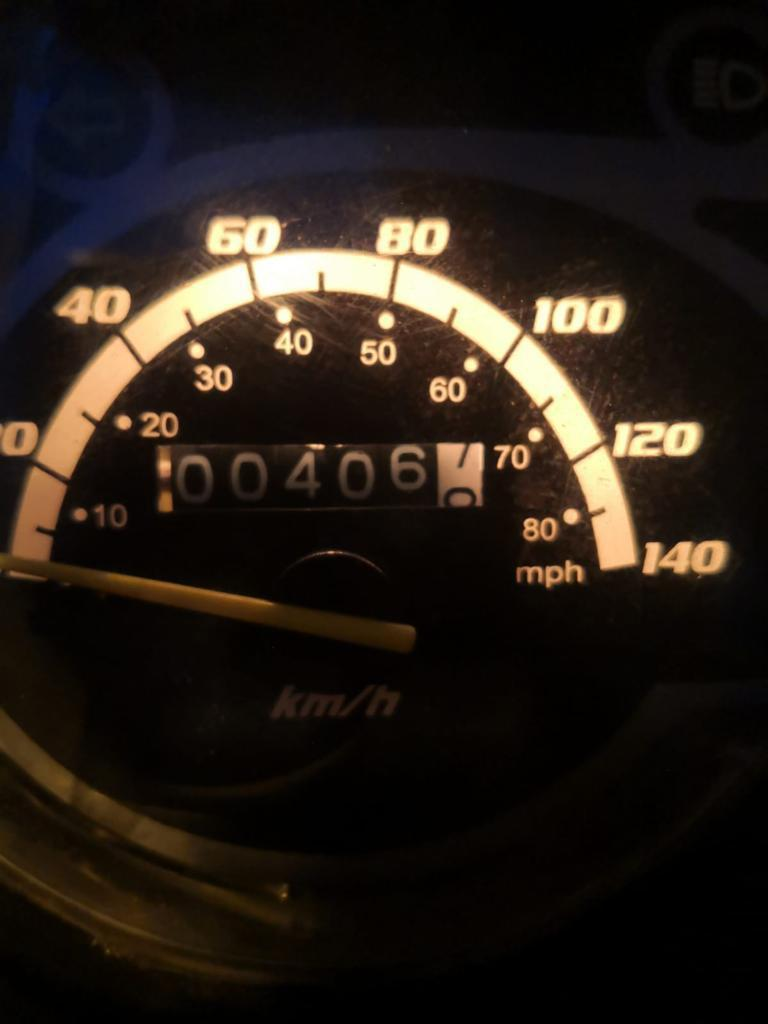0: (334, 446, 377, 503), (226, 450, 271, 504), (173, 451, 216, 506)
4: (280, 447, 323, 505)
6: (386, 440, 430, 493)
7: (445, 439, 472, 470)
8: (439, 485, 481, 509)
odometer: (146, 438, 488, 519)
